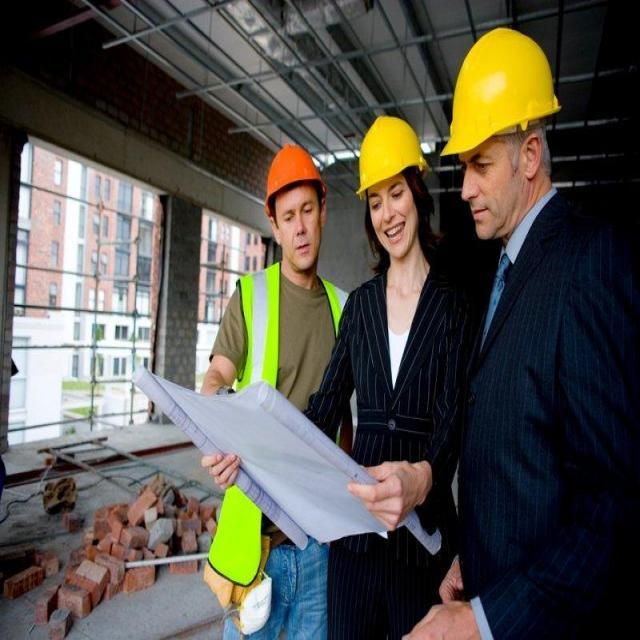reflective_jacket: (208, 257, 351, 589)
safety_helmet: (439, 24, 562, 159), (353, 110, 429, 200), (259, 135, 327, 213)
